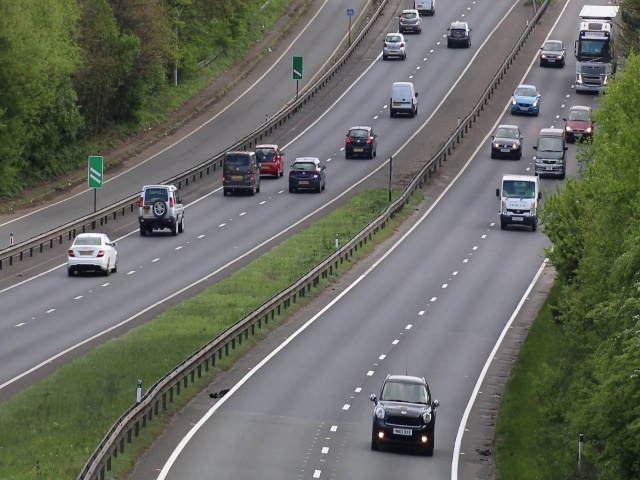car: (371, 372, 437, 459), (499, 172, 541, 232), (139, 183, 185, 235), (67, 232, 119, 278), (576, 33, 608, 94), (222, 150, 261, 197), (533, 129, 569, 178), (289, 155, 326, 194), (388, 81, 419, 118), (254, 142, 284, 180), (564, 102, 593, 141), (490, 123, 522, 157), (345, 126, 377, 158), (511, 82, 540, 115), (539, 38, 565, 69), (446, 20, 472, 49), (381, 32, 407, 59), (398, 9, 423, 35)
